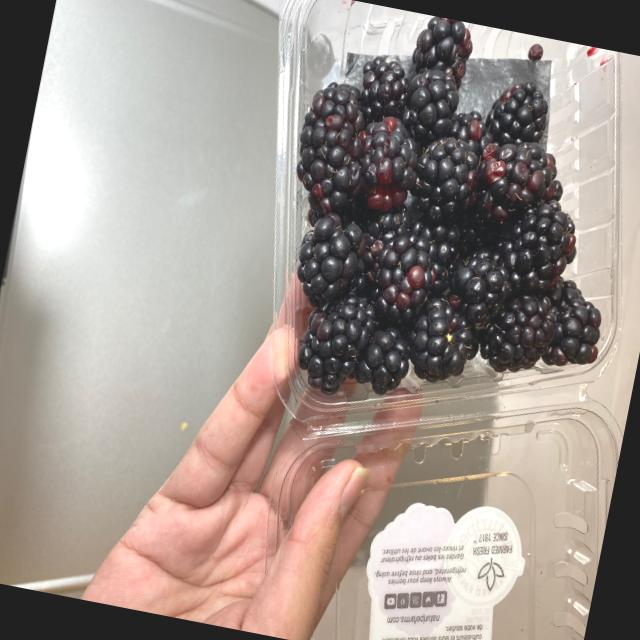blackberries: (252, 36, 640, 410)
